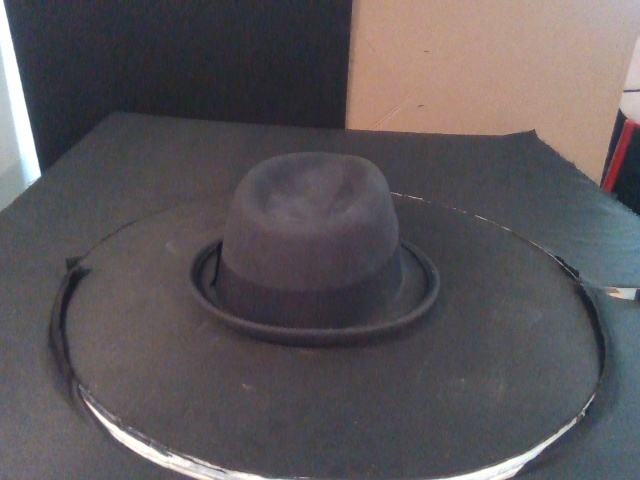hat: (184, 153, 440, 346)
